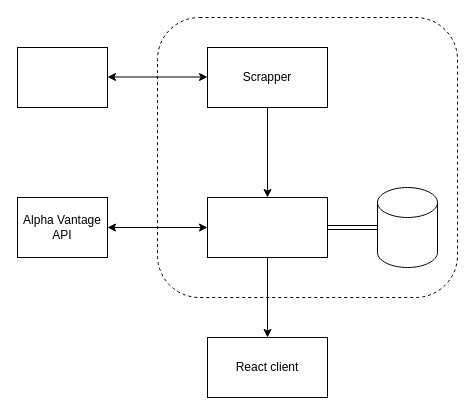
This 475x415 diagram has some shape labels left out. Each missing label, with the box of its shape:
Reddit API: (16, 46, 108, 108)
Stock Data Fetcher: (206, 196, 328, 258)
